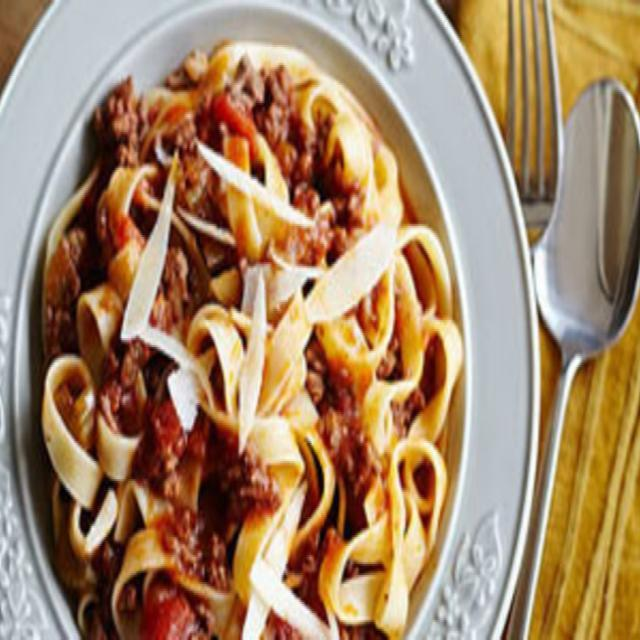Pasta al ragu: (12, 24, 517, 620)
